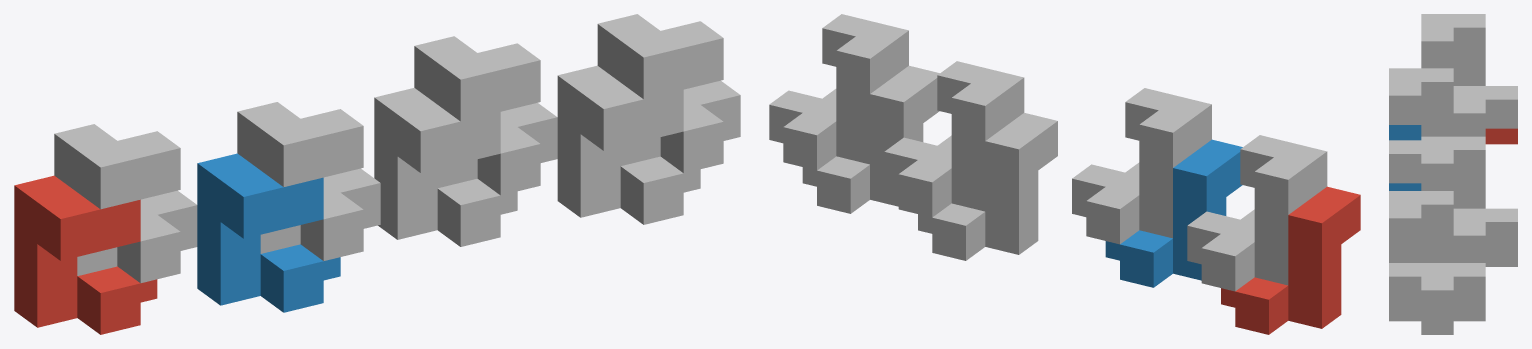
Rendered from tiling.obj.
3 renders of one model, left to right at view 1: azimuth 30°, elevation 25°; view 2: azimuth 150°, elevation 25°; view 3: azimuth 270°, elevation 25°, orthographic. The views are drawn at different scales.
Parts seen in each view (by area): view 1: copy_1_domain_6, copy_1_domain_1, copy_1_domain_2, copy_1_domain_5, copy_1_domain_8, copy_1_domain_3, copy_1_domain_4, copy_1_domain_7; view 2: copy_1_domain_3, copy_1_domain_7, copy_1_domain_8, copy_1_domain_4, copy_1_domain_1, copy_1_domain_5, copy_1_domain_6, copy_1_domain_2; view 3: copy_1_domain_8, copy_1_domain_7, copy_1_domain_3, copy_1_domain_4, copy_1_domain_6, copy_1_domain_2, copy_1_domain_1, copy_1_domain_5.
Boxes of the visible parts, x1=… form: copy_1_domain_6: x1=557, y1=65, x2=700, y2=224; copy_1_domain_1: x1=14, y1=175, x2=157, y2=334; copy_1_domain_2: x1=197, y1=153, x2=340, y2=312; copy_1_domain_5: x1=374, y1=87, x2=517, y2=246; copy_1_domain_8: x1=597, y1=14, x2=740, y2=173; copy_1_domain_3: x1=54, y1=124, x2=197, y2=283; copy_1_domain_4: x1=237, y1=102, x2=380, y2=260; copy_1_domain_7: x1=414, y1=36, x2=557, y2=195; copy_1_domain_3: x1=1187, y1=135, x2=1327, y2=291; copy_1_domain_7: x1=884, y1=61, x2=1024, y2=217; copy_1_domain_8: x1=769, y1=14, x2=908, y2=170; copy_1_domain_4: x1=1072, y1=88, x2=1211, y2=244; copy_1_domain_1: x1=1221, y1=186, x2=1360, y2=334; copy_1_domain_5: x1=918, y1=112, x2=1057, y2=260; copy_1_domain_6: x1=802, y1=65, x2=939, y2=213; copy_1_domain_2: x1=1105, y1=139, x2=1242, y2=287; copy_1_domain_8: x1=1389, y1=191, x2=1485, y2=319; copy_1_domain_7: x1=1421, y1=136, x2=1517, y2=262; copy_1_domain_3: x1=1421, y1=14, x2=1517, y2=136; copy_1_domain_4: x1=1389, y1=68, x2=1453, y2=183; copy_1_domain_6: x1=1389, y1=247, x2=1485, y2=334; copy_1_domain_2: x1=1389, y1=125, x2=1421, y2=190; copy_1_domain_1: x1=1485, y1=128, x2=1517, y2=144; copy_1_domain_5: x1=1485, y1=251, x2=1517, y2=266.
Size of the model in its own units: 17 by 4 by 4.
